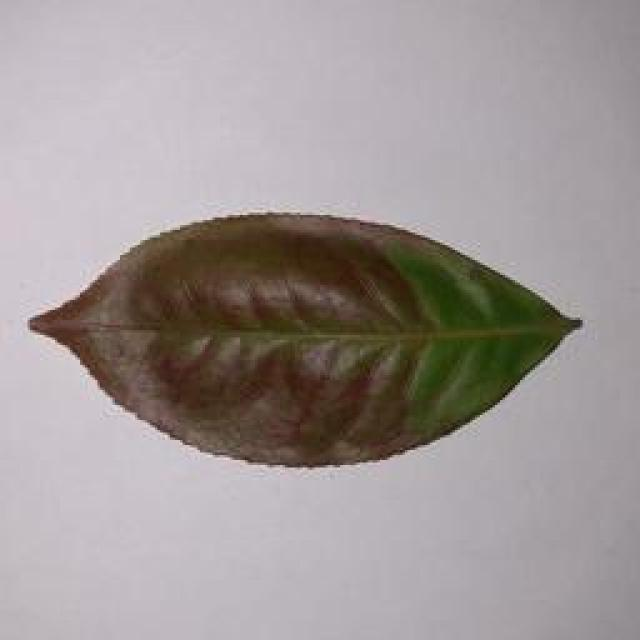Red Leaf Spot: (35, 197, 588, 464)
